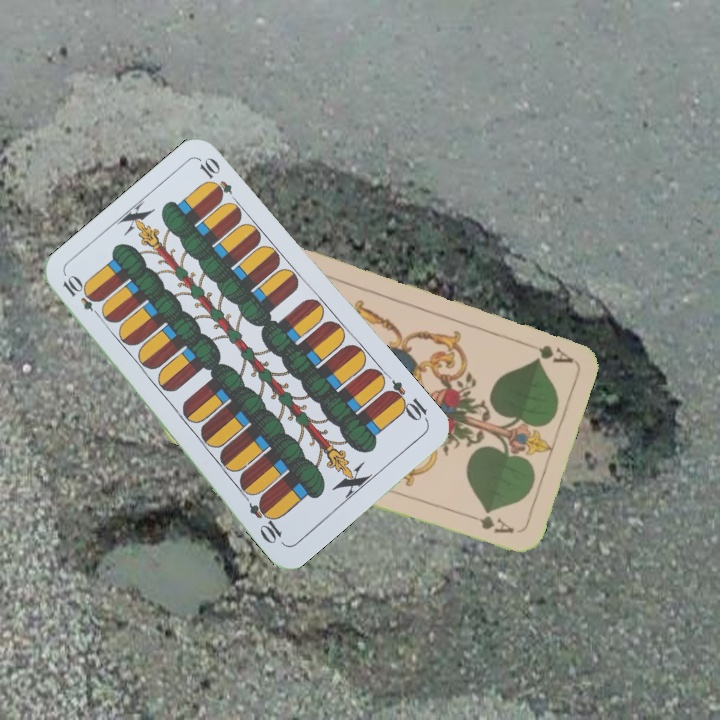E10: (381, 376, 431, 425), (58, 272, 106, 322)
GA: (517, 337, 575, 366)
